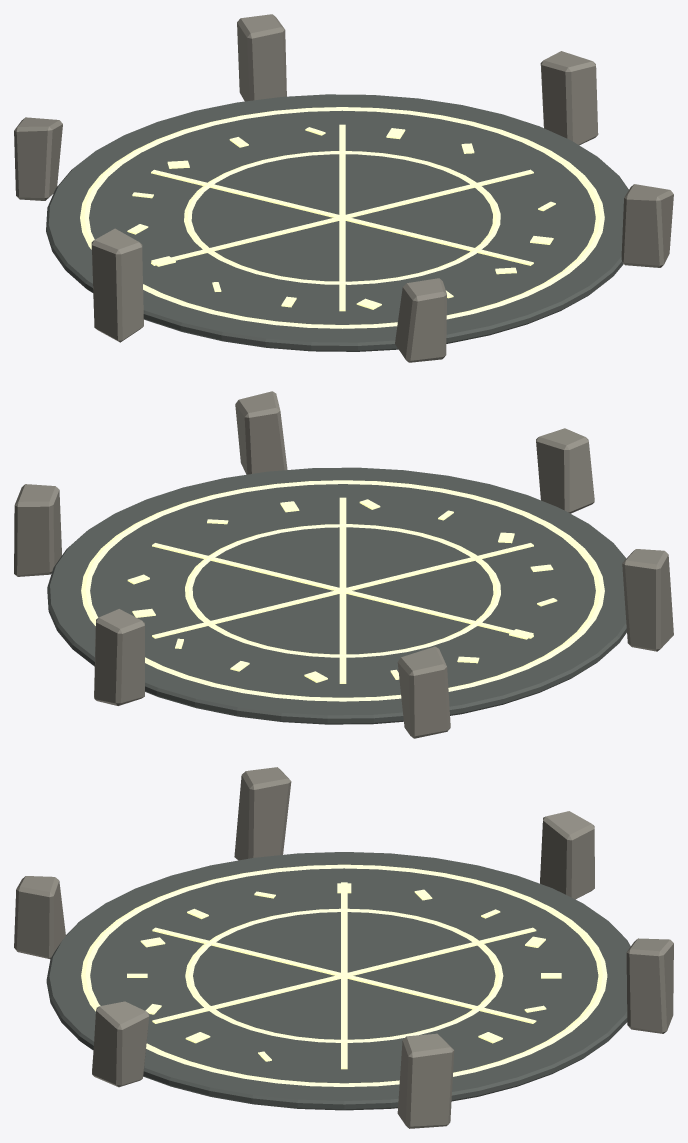
The model's file is SM_SummonCircle.fbx.
3 renders of one model, top to bottom at view 1: azimuth 30°, elevation 25°; view 2: azimuth 150°, elevation 25°; view 3: azimuth 270°, elevation 25°, orthographic.
Parts seen in each view (by area): view 1: SM_SummonCircle; view 2: SM_SummonCircle; view 3: SM_SummonCircle.
Boxes of the visible parts, left/top/right/bottom form: SM_SummonCircle: left=14, top=14, right=673, bottom=362; SM_SummonCircle: left=14, top=391, right=673, bottom=738; SM_SummonCircle: left=14, top=767, right=673, bottom=1128.
Size of the model in its own units: 513 by 78.02 by 510.
